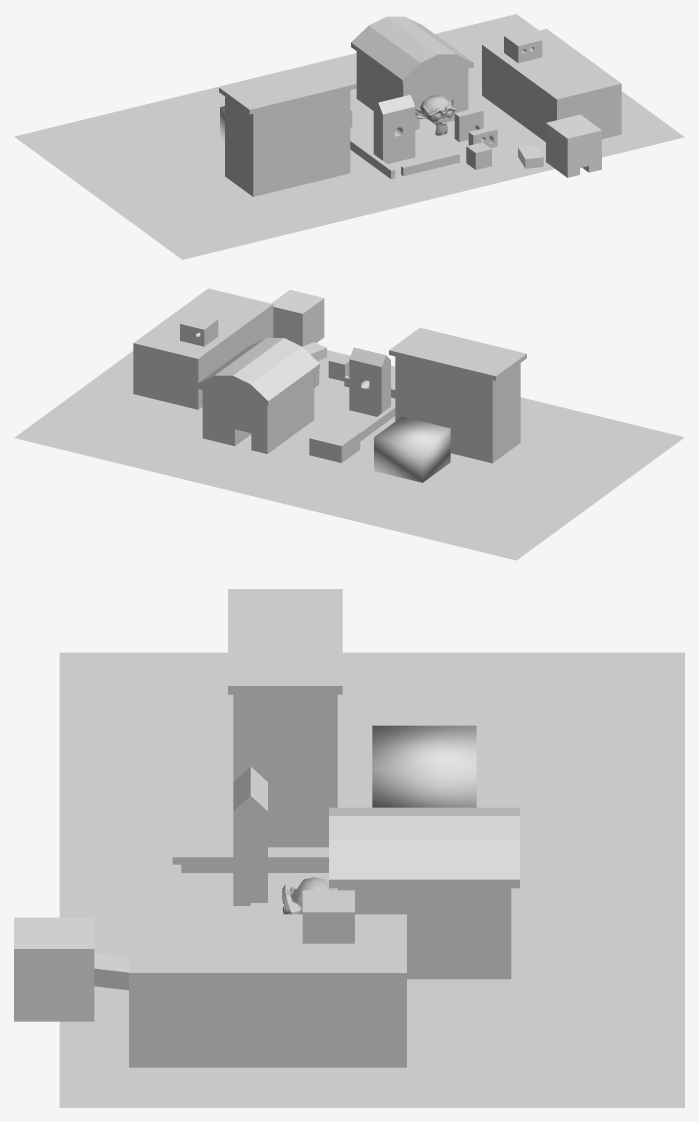
3 views of the same model, one above another, from view 1: azimuth 30°, elevation 25°; view 2: azimuth 150°, elevation 25°; view 3: azimuth 270°, elevation 25° (orthographic). The views are drawn at different scales.
Parts seen in each view (by area): view 1: Brushes, Box, Suzanne, Box.001; view 2: Brushes, Box; view 3: Brushes, Box, Box.001, Suzanne.
Boxes of the visible parts, <box> form: Brushes: <box>14,14,684,259</box>; Box: <box>546,114,601,177</box>; Suzanne: <box>415,95,455,135</box>; Box.001: <box>518,145,543,168</box>; Brushes: <box>14,288,684,560</box>; Box: <box>271,289,324,346</box>; Brushes: <box>59,589,684,1107</box>; Box: <box>14,917,94,1021</box>; Box.001: <box>94,953,128,990</box>; Suzanne: <box>282,877,335,914</box>.
Bounding box in the file's own units: 31 × 6.26 × 19.31.
